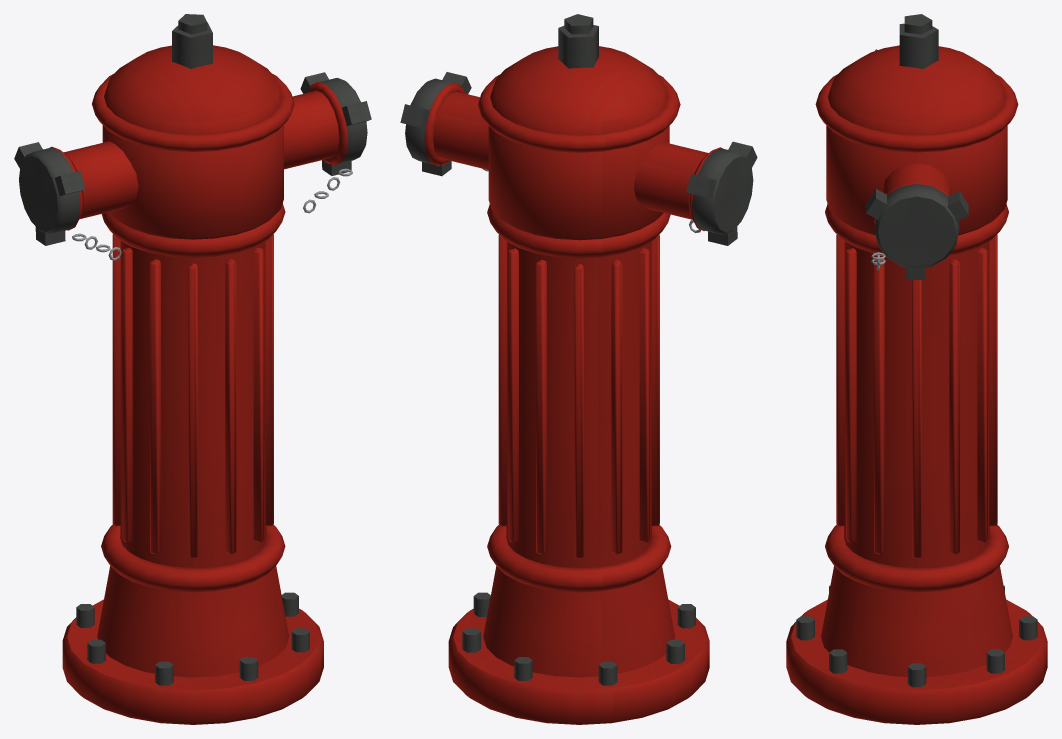
Rendered from OB_Hydrant.fbx.
The picture shows the model from 3 angles, left to right: view 1: azimuth 30°, elevation 25°; view 2: azimuth 150°, elevation 25°; view 3: azimuth 270°, elevation 25°; orthographic projection.
Parts seen in each view (by area): view 1: Hydrant; view 2: Hydrant; view 3: Hydrant.
Boxes of the visible parts, x1,y1,x2,y2 form: Hydrant: (14, 14, 371, 724); Hydrant: (400, 14, 757, 724); Hydrant: (786, 14, 1047, 724).
Size of the model in its own units: 0.465 by 0.936 by 0.34.
